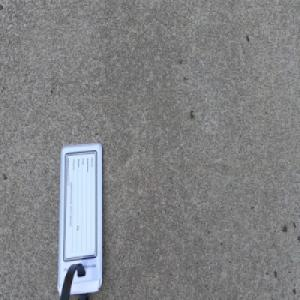LuggageTag: (58, 139, 106, 300)
